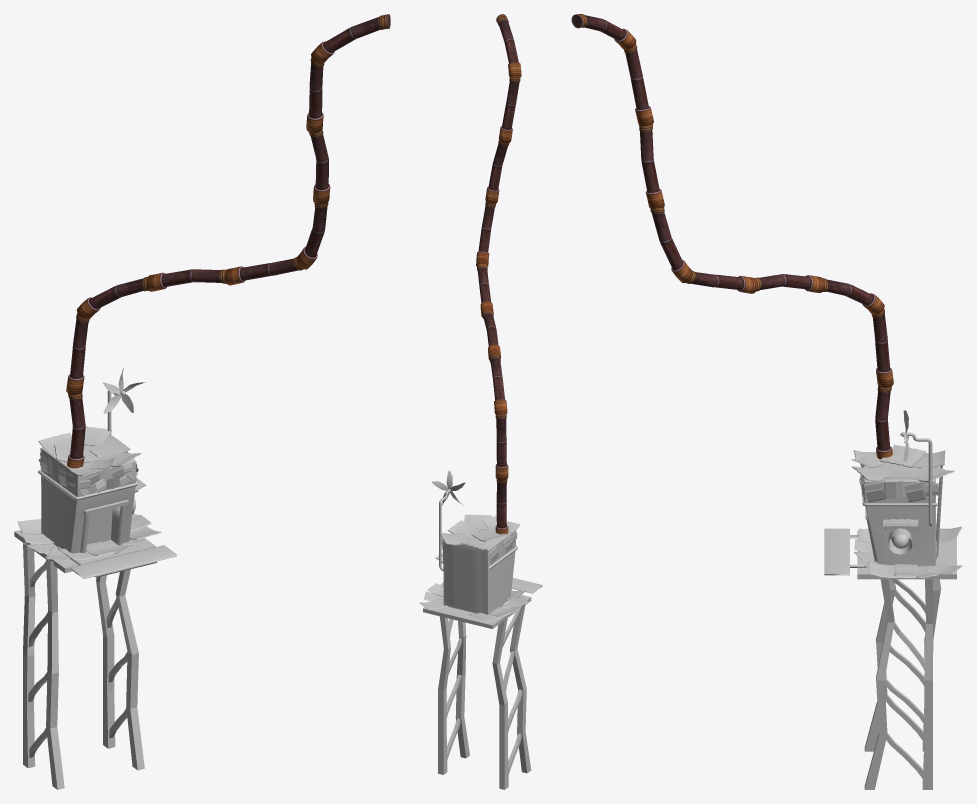
File: Slum_01.fbx
The picture shows the model from 3 angles, left to right: view 1: azimuth 30°, elevation 25°; view 2: azimuth 150°, elevation 25°; view 3: azimuth 270°, elevation 25°; orthographic projection. The views are drawn at different scales.
Parts seen in each view (by area): view 1: caos, polySurface345, polySurface425, polySurface387, polySurface391, polySurface403, polySurface389, polySurface390, polySurface402; view 2: caos, polySurface344, polySurface345, polySurface387, polySurface398, polySurface410, polySurface396, polySurface408, polySurface392, polySurface394, polySurface402, polySurface390 (+15 smaller); view 3: caos, polySurface345, polySurface425, polySurface387.
Boxes of the visible parts, x1,y1,x2,y2 form: caos: (66, 14, 390, 468); polySurface345: (41, 445, 136, 553); polySurface425: (71, 545, 177, 578); polySurface387: (14, 530, 155, 573); polySurface391: (46, 725, 64, 789); polySurface403: (126, 707, 144, 770); polySurface389: (47, 610, 58, 674); polySurface390: (46, 671, 58, 728); polySurface402: (126, 651, 138, 708); caos: (476, 14, 521, 534); polySurface344: (442, 542, 487, 612); polySurface345: (443, 528, 516, 614); polySurface387: (423, 594, 531, 628); polySurface398: (499, 745, 508, 789); polySurface410: (438, 730, 447, 774); polySurface396: (499, 703, 507, 747); polySurface408: (438, 689, 446, 732); polySurface392: (492, 663, 507, 705); polySurface394: (492, 618, 507, 664); polySurface402: (455, 674, 465, 719); polySurface390: (517, 688, 526, 734); caos: (571, 14, 893, 459); polySurface345: (863, 453, 935, 566); polySurface425: (824, 528, 849, 575); polySurface387: (857, 530, 956, 579).
Bounding box in the file's own units: 0.0944 × 0.3875 × 0.1671.
